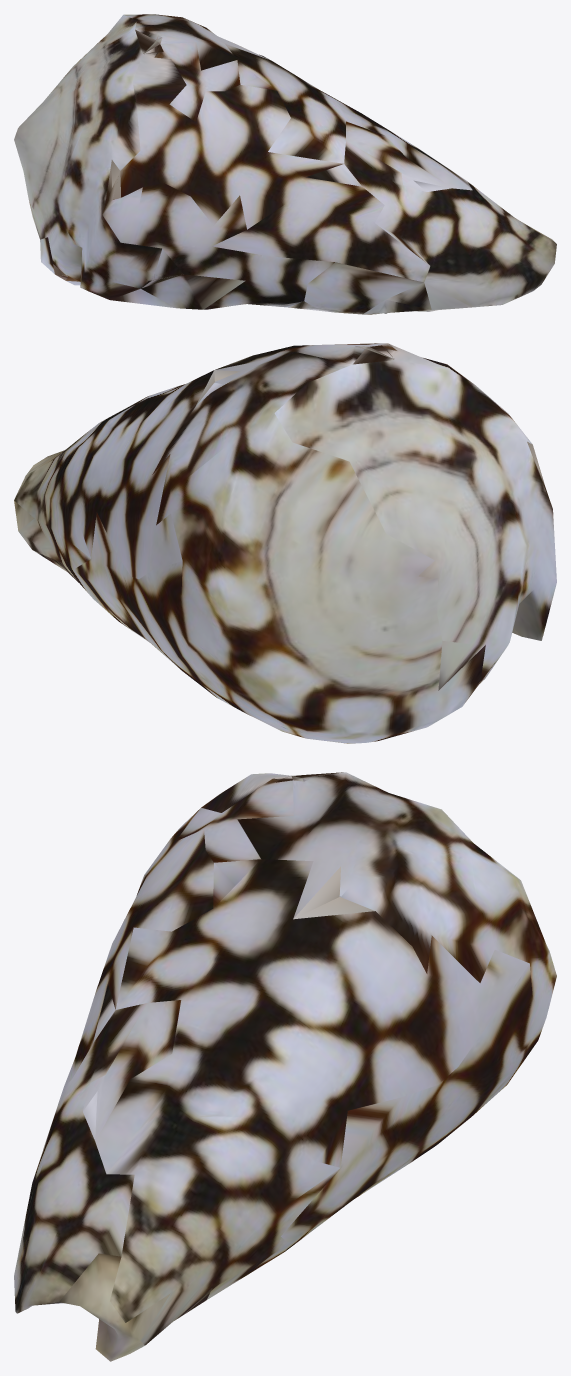
File: snailShell.glb
3 views of the same model, one above another, from view 1: azimuth 30°, elevation 25°; view 2: azimuth 150°, elevation 25°; view 3: azimuth 270°, elevation 25° (orthographic). The views are drawn at different scales.
Visible parts, largest first — view 1: snailShell; view 2: snailShell; view 3: snailShell.
Boxes of the visible parts, <box> form: snailShell: <box>14,14,556,314</box>; snailShell: <box>14,343,556,743</box>; snailShell: <box>14,772,556,1361</box>.
Bounding box in the file's own units: 0.07 × 0.0429 × 0.0552.
Materials: 1 (1 with a texture image).
